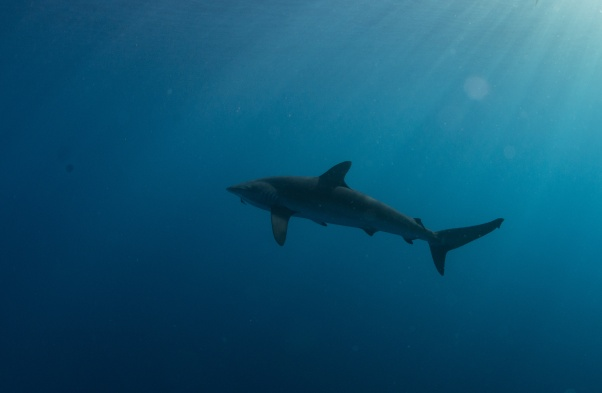Sedoso: (192, 141, 512, 295)
